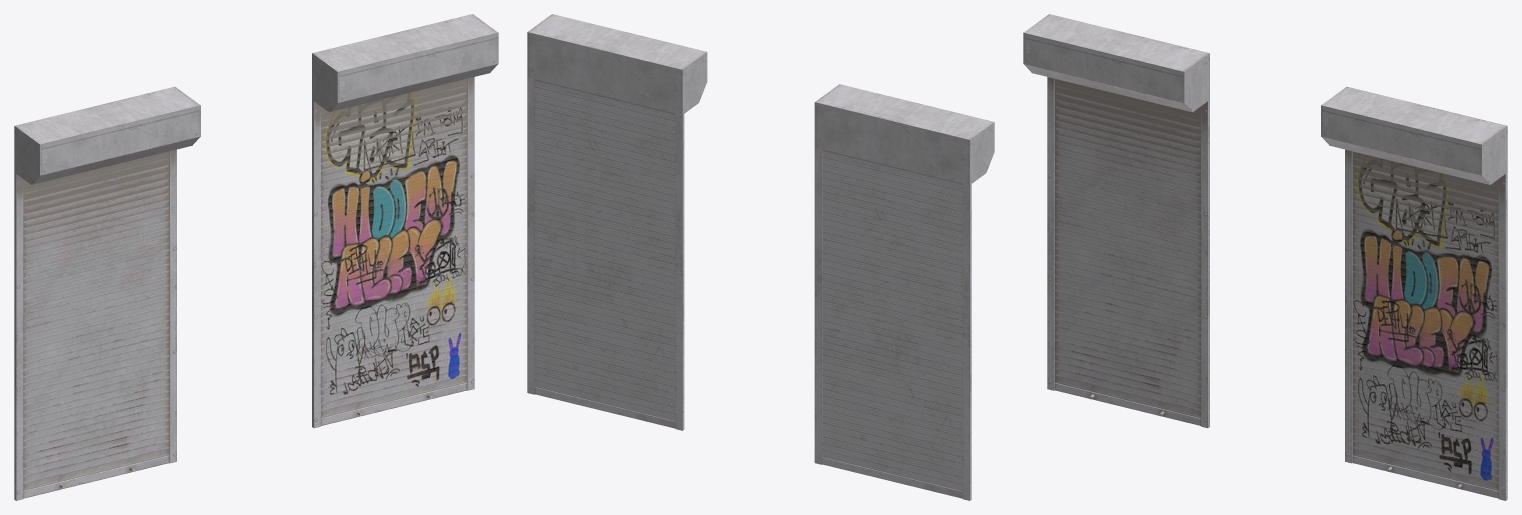
The picture shows the model from 3 angles, left to right: view 1: azimuth 30°, elevation 25°; view 2: azimuth 150°, elevation 25°; view 3: azimuth 330°, elevation 25°; orthographic projection. The views are drawn at different scales.
Parts seen in each view (by area): view 1: rollershutter_door, rollershutter_door_graffiti; view 2: rollershutter_door, rollershutter_door_graffiti; view 3: rollershutter_door_graffiti, rollershutter_door.
Boxes of the visible parts, <box> form: rollershutter_door: <box>14,86,200,500</box>; rollershutter_door_graffiti: <box>312,14,498,428</box>; rollershutter_door: <box>814,84,994,500</box>; rollershutter_door_graffiti: <box>527,14,707,430</box>; rollershutter_door_graffiti: <box>1321,86,1507,500</box>; rollershutter_door: <box>1023,14,1209,428</box>.
Size of the model in its own units: 3.08 by 2.4 by 0.3001.
2 materials, 2 textured.
